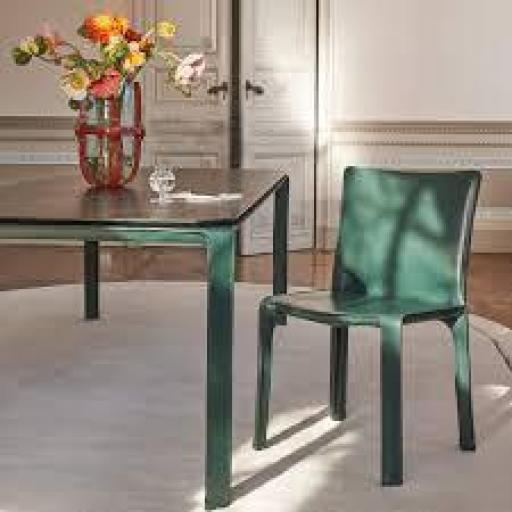chair: (254, 160, 481, 482)
